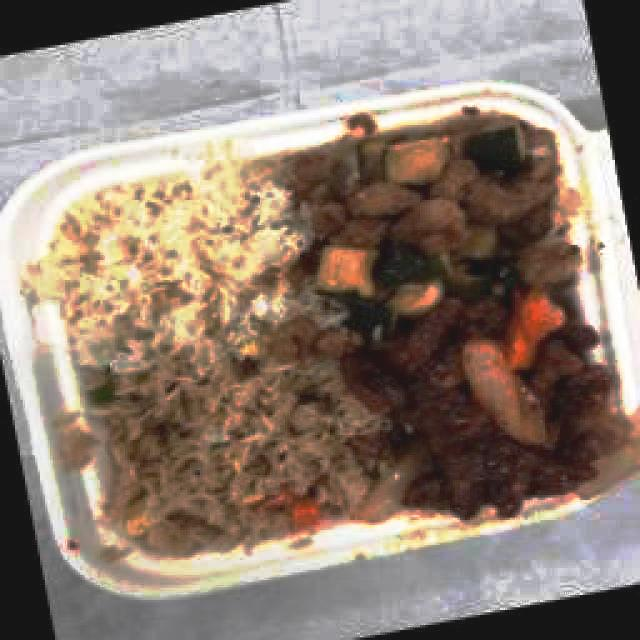Beijing Beef: (360, 312, 607, 509)
Fried Rice: (116, 348, 329, 545), (56, 201, 288, 342)
Kung Pao Chicken: (310, 118, 537, 289)
